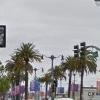Palm tree: (13, 40, 41, 100)
